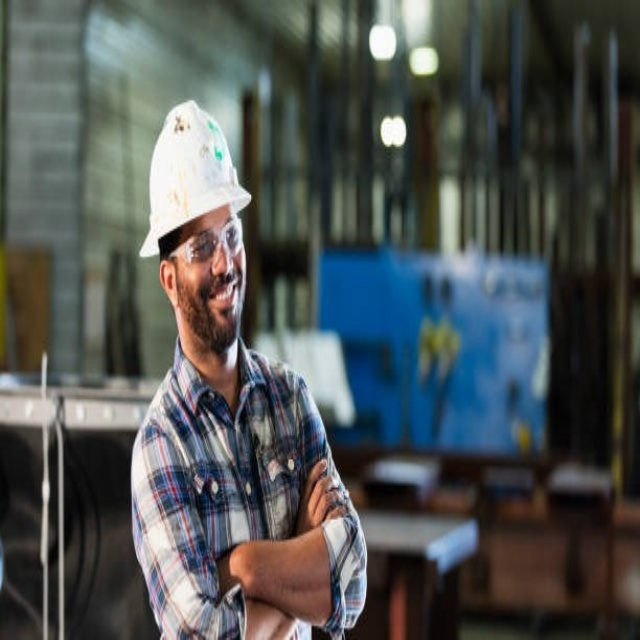Gafas: (170, 217, 244, 266)
Sin_guantes: (294, 453, 347, 538)
Sin_mascara: (202, 269, 243, 329)
